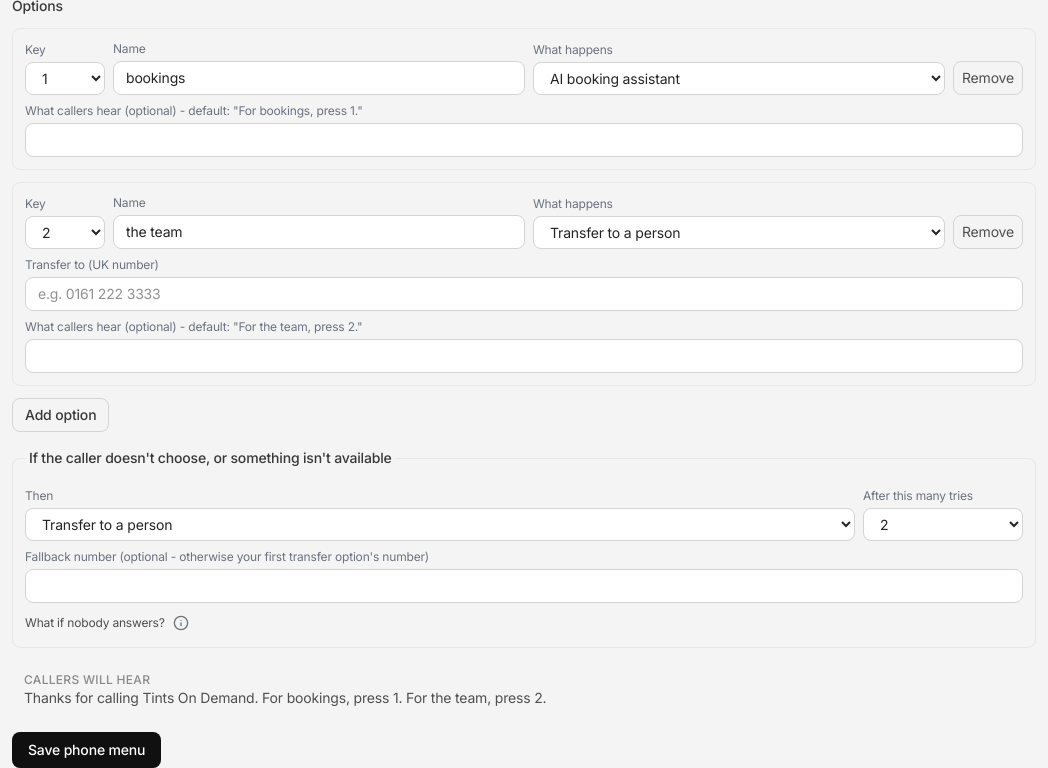
Test: PhoneMenuPanel › explains a 403 as owner-only
(page scrolled)
Click the button "Save phone menu": coordinates (87, 750) [12,732,161,767]
(page scrolled)
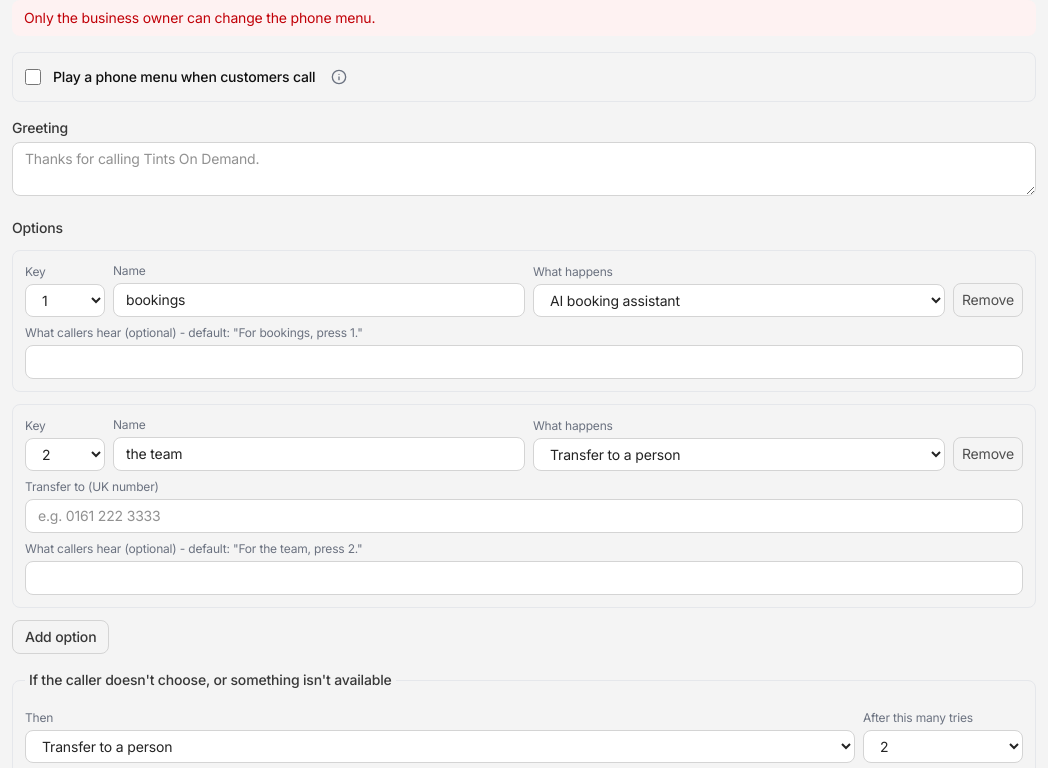
Check: the text "Only the business owner can change the phone menu." is shown, box [12,0,1036,36]
